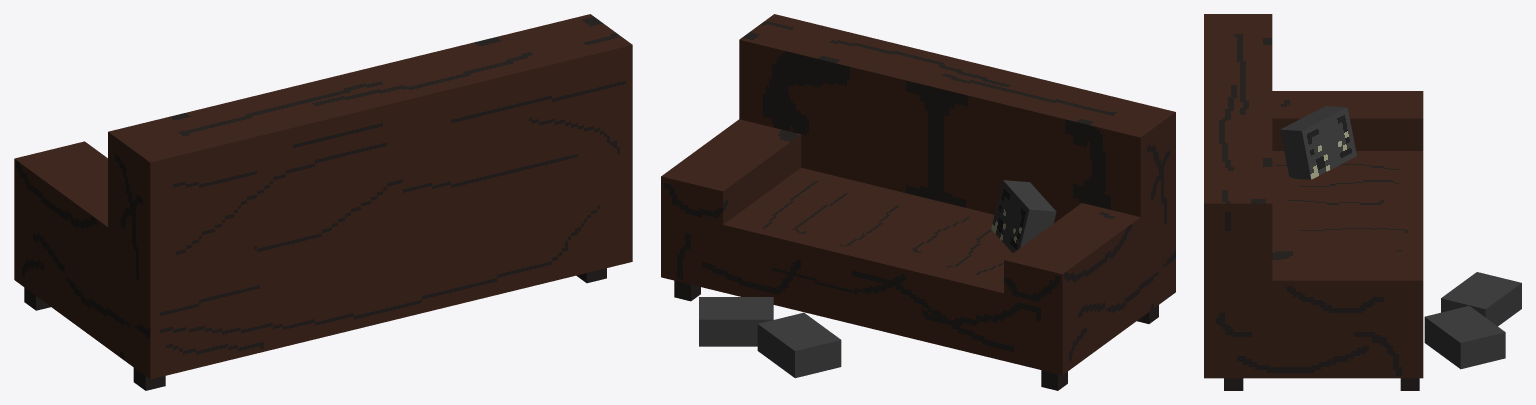
File: three_couch.gltf
3 renders of one model, left to right at view 1: azimuth 30°, elevation 25°; view 2: azimuth 150°, elevation 25°; view 3: azimuth 270°, elevation 25°, orthographic. The views are drawn at different scales.
Visible parts, largest first — view 1: cube (×4); view 2: cube (×5), couch deco; view 3: cube (×5), couch deco.
Part boxes in pixels (<box>): cube (×4): <box>14,14,632,379</box>; cube (×5): <box>661,14,1175,375</box>; couch deco: <box>699,180,1056,378</box>; cube (×5): <box>1204,14,1423,378</box>; couch deco: <box>1280,106,1521,369</box>.
Bounding box in the file's own units: 1.16 × 0.5516 × 0.8242.
3 materials, 3 textured.
